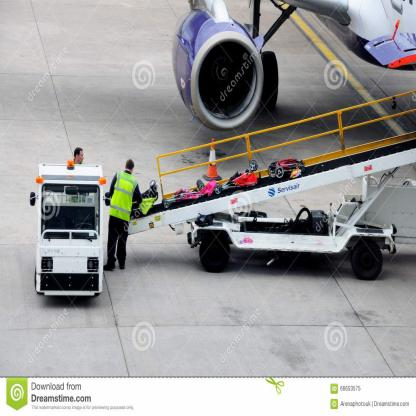baggagetruck: (112, 83, 413, 281)
